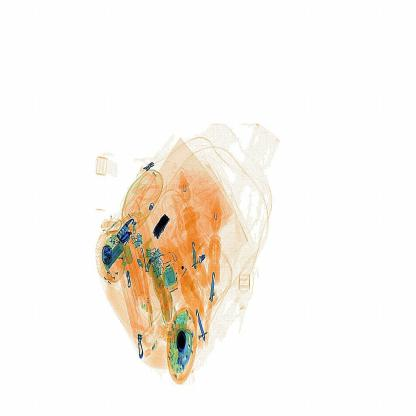scissors: (153, 215, 179, 244)
